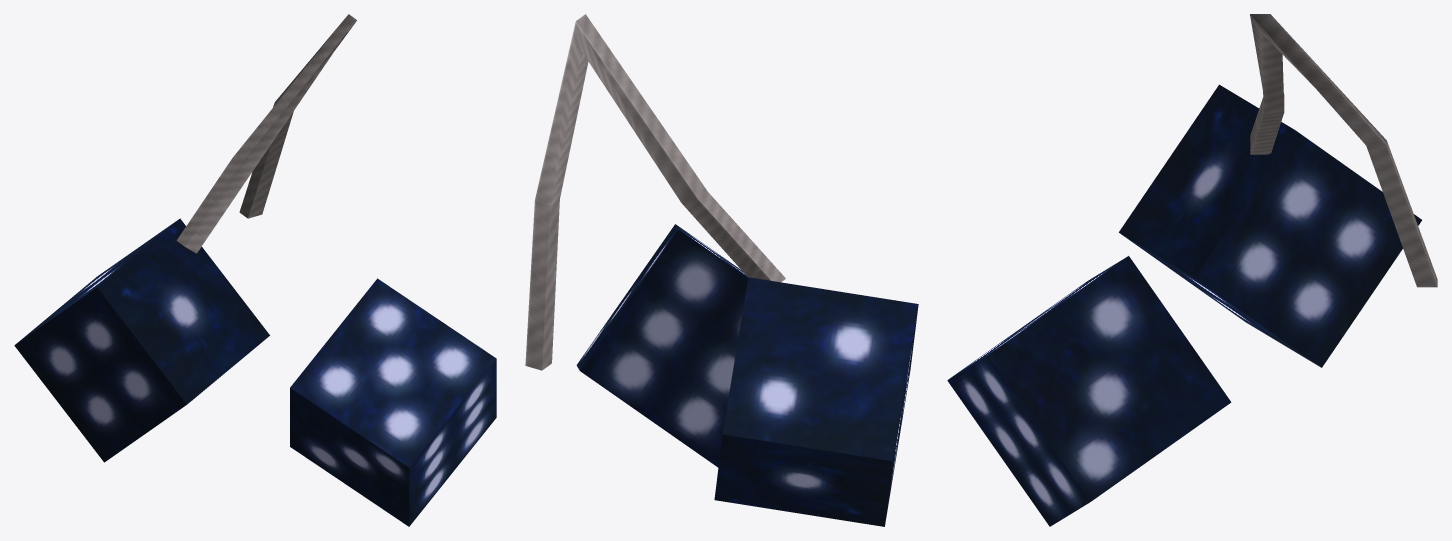
File: acs58.obj
3 views of the same model, side by side, from view 1: azimuth 30°, elevation 25°; view 2: azimuth 150°, elevation 25°; view 3: azimuth 270°, elevation 25° (orthographic). The views are drawn at different scales.
Visible parts, largest first — view 1: frm-dice2, frm-dice1, frm-chain; view 2: frm-dice1, frm-dice2, frm-chain; view 3: frm-dice1, frm-dice2, frm-chain.
Boxes of the visible parts, x1,y1,x2,y2 form: frm-dice2: [290, 278, 496, 526]; frm-dice1: [14, 218, 269, 462]; frm-chain: [176, 14, 356, 253]; frm-dice1: [714, 277, 918, 526]; frm-dice2: [576, 224, 747, 467]; frm-chain: [525, 14, 785, 370]; frm-dice1: [1119, 84, 1421, 367]; frm-dice2: [947, 256, 1231, 526]; frm-chain: [1250, 14, 1437, 287].
Size of the model in its own units: 2.94 by 3.27 by 2.74.
Materials: 4 (3 with a texture image).
